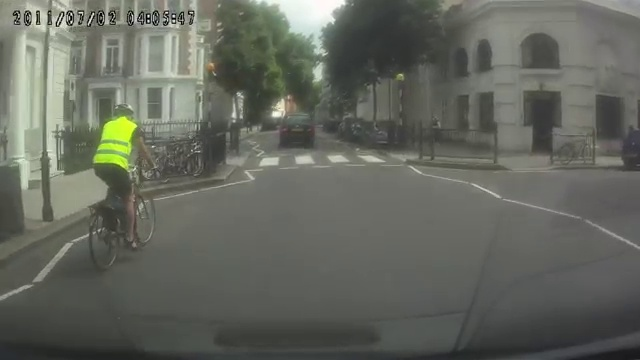cyclist_back: (84, 96, 165, 268)
